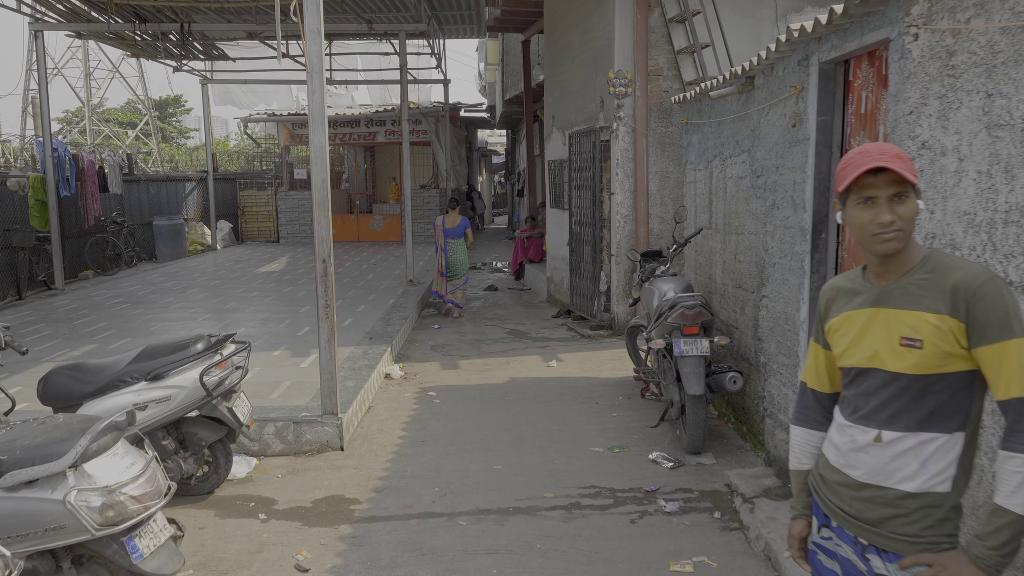garbage: (646, 447, 689, 472), (385, 364, 406, 379), (481, 281, 502, 294)
